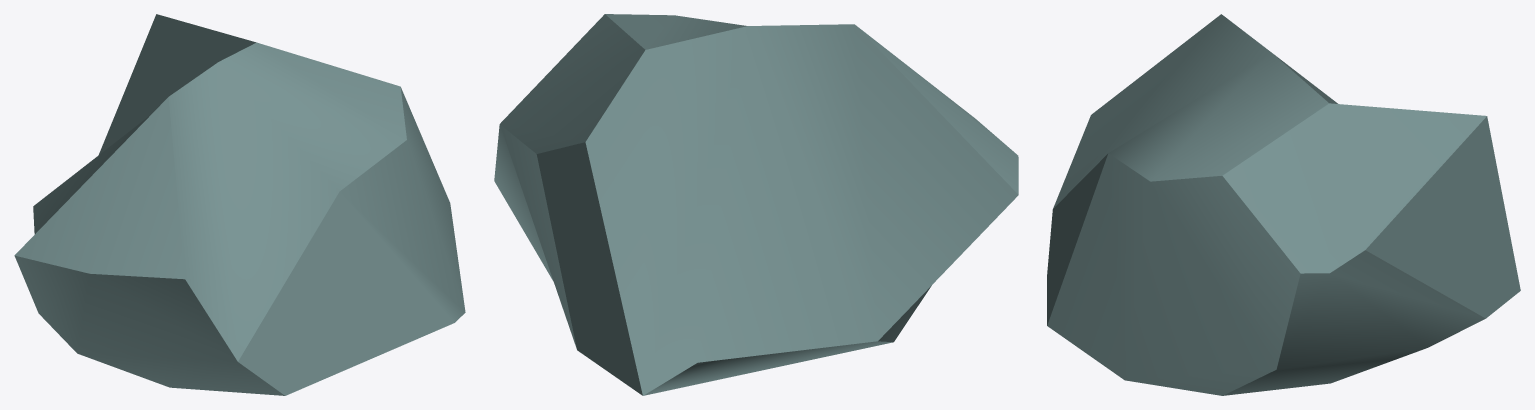
File: rock3_coloured.fbx
3 views of the same model, side by side, from view 1: azimuth 30°, elevation 25°; view 2: azimuth 150°, elevation 25°; view 3: azimuth 270°, elevation 25° (orthographic). The views are drawn at different scales.
Visible parts, largest first — view 1: pPlatonic1; view 2: pPlatonic1; view 3: pPlatonic1.
Part boxes in pixels (box(x1,y1,x2,y2)): pPlatonic1: box(14, 14, 465, 395); pPlatonic1: box(494, 14, 1018, 395); pPlatonic1: box(1047, 14, 1520, 395).
Size of the model in its own units: 1.87 by 1.12 by 1.64.
